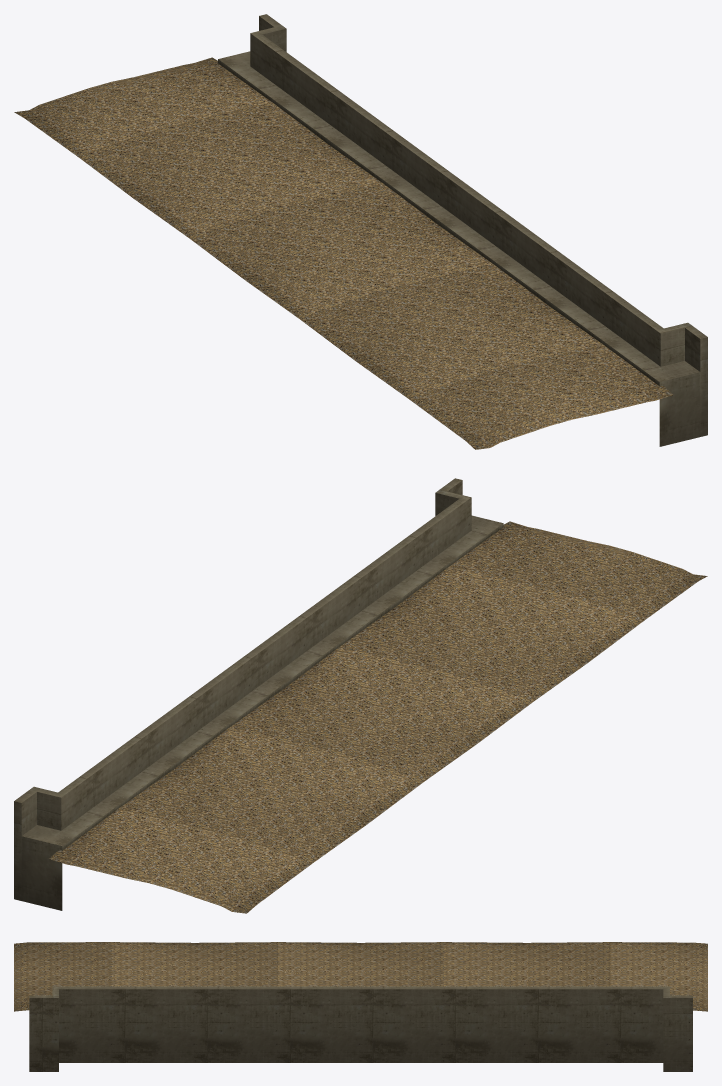
Rendered from HK_KOUKA_L100.glb.
The picture shows the model from 3 angles, top to bottom: view 1: azimuth 30°, elevation 25°; view 2: azimuth 150°, elevation 25°; view 3: azimuth 270°, elevation 25°; orthographic projection. The views are drawn at different scales.
Visible parts, largest first — view 1: Left; view 2: Left; view 3: Left.
Part boxes in pixels (left/top/right/bottom): Left: left=14, top=14, right=707, bottom=449; Left: left=14, top=478, right=707, bottom=913; Left: left=14, top=942, right=707, bottom=1071.
Bounding box in the file's own units: 31.76 × 12.26 × 105.
Materials: 2 (2 with a texture image).
